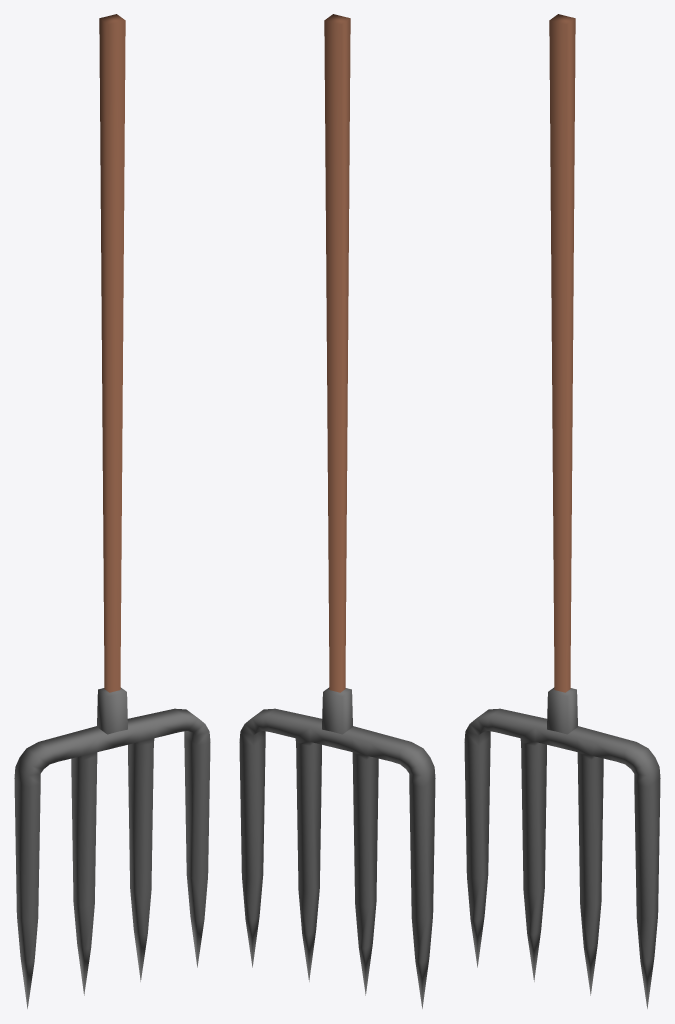
The model's file is Forquilha.fbx.
The picture shows the model from 3 angles, left to right: view 1: azimuth 30°, elevation 25°; view 2: azimuth 150°, elevation 25°; view 3: azimuth 330°, elevation 25°; orthographic projection.
Visible parts, largest first — view 1: Forquilha.001; view 2: Forquilha.001; view 3: Forquilha.001.
Part boxes in pixels (box(x1,y1,x2,y2)): Forquilha.001: box(14, 14, 210, 1008); Forquilha.001: box(239, 14, 435, 1008); Forquilha.001: box(464, 14, 660, 1008).
Bounding box in the file's own units: 0.0334 × 0.29 × 1.46.
